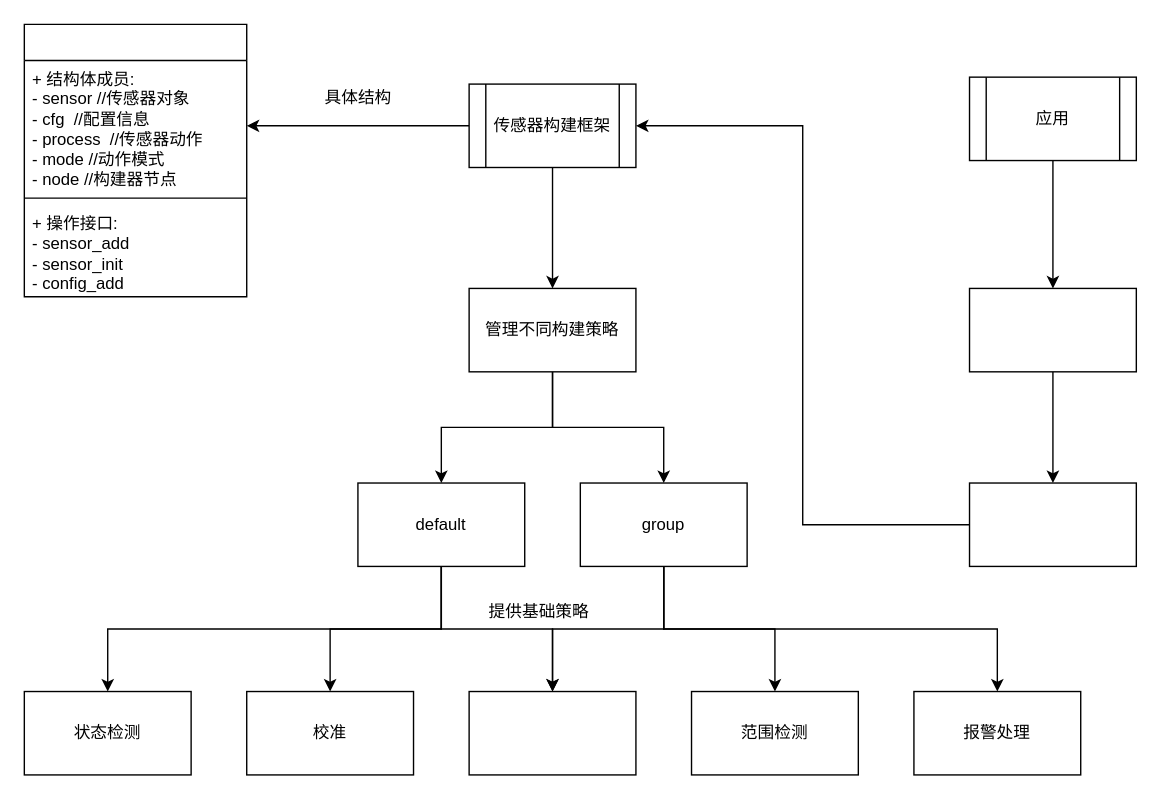
This 1161x799 diagram has some shape labels left out. Each missing label, with the box of its shape:
执行传感器构建运行: (968, 482, 1136, 566)
构建器对象: (23, 23, 247, 297)
编写动作策略 采用对应构建器 填写对应配置: (968, 287, 1136, 372)
采集: (468, 690, 636, 775)
